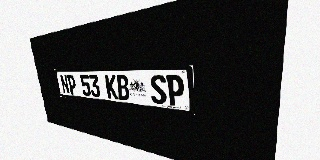3: (88, 75, 101, 98)
5: (80, 75, 92, 97)
B: (116, 75, 130, 101)
K: (105, 75, 118, 99)
N: (60, 75, 70, 94)
P: (166, 75, 185, 107), (67, 75, 77, 95)
S: (150, 75, 167, 105)
